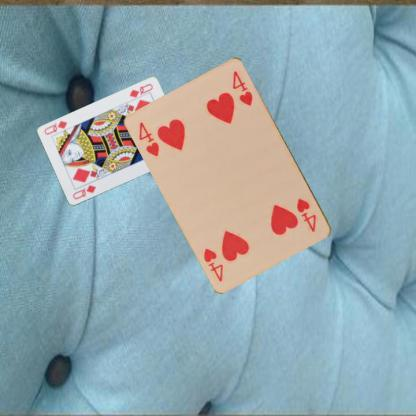4h: (136, 119, 162, 158), (294, 195, 318, 234)
Qd: (127, 82, 154, 103), (70, 183, 97, 201)
